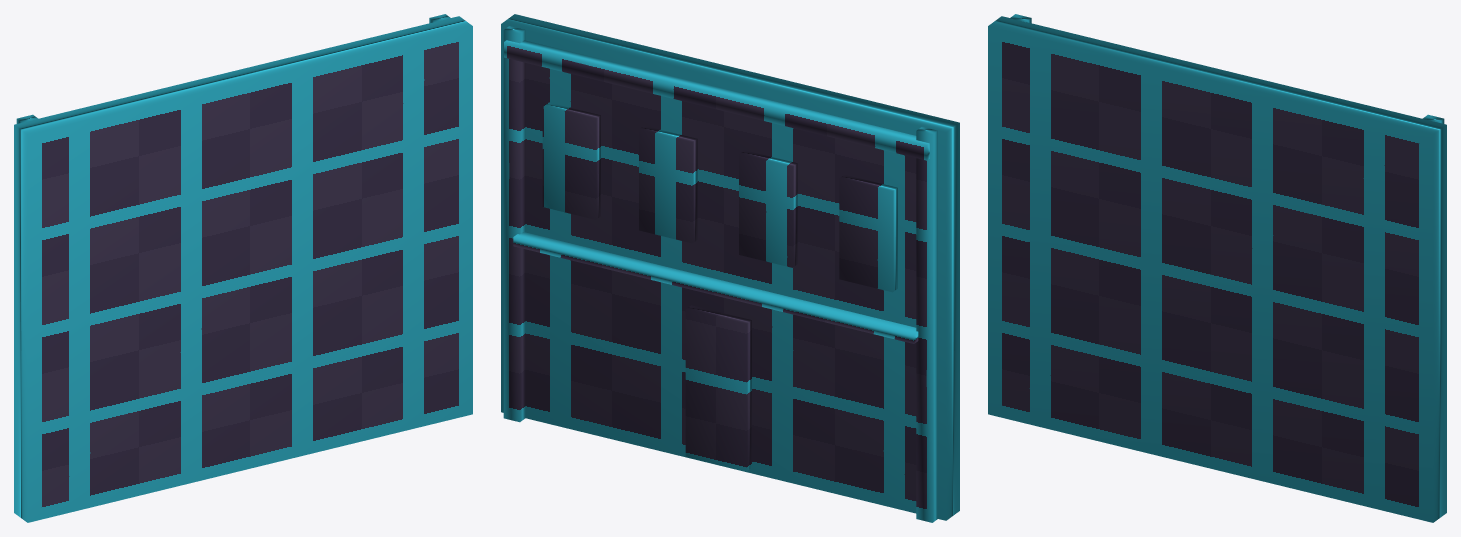
File: SM_Env_CairoFacade_C_LOD1.obj
3 renders of one model, left to right at view 1: azimuth 30°, elevation 25°; view 2: azimuth 150°, elevation 25°; view 3: azimuth 330°, elevation 25°, orthographic.
Parts seen in each view (by area): view 1: SM_Env_CairoFacade_C_LOD1; view 2: SM_Env_CairoFacade_C_LOD1; view 3: SM_Env_CairoFacade_C_LOD1.
Boxes of the visible parts, x1,y1,x2,y2 form: SM_Env_CairoFacade_C_LOD1: (14, 14, 472, 522); SM_Env_CairoFacade_C_LOD1: (501, 14, 959, 522); SM_Env_CairoFacade_C_LOD1: (988, 14, 1446, 522).
Bounding box in the file's own units: 6 × 5 × 0.55.
Materials: 1 (1 with a texture image).
